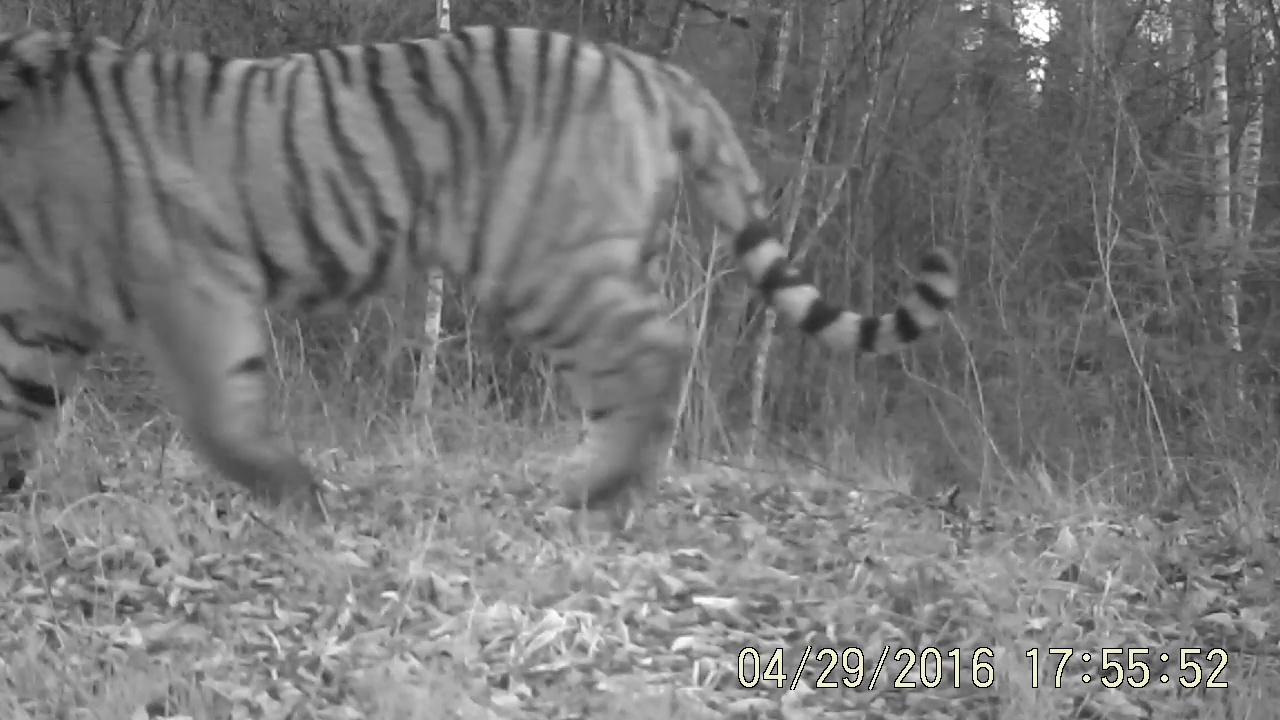Tiger: (5, 18, 1120, 555)
